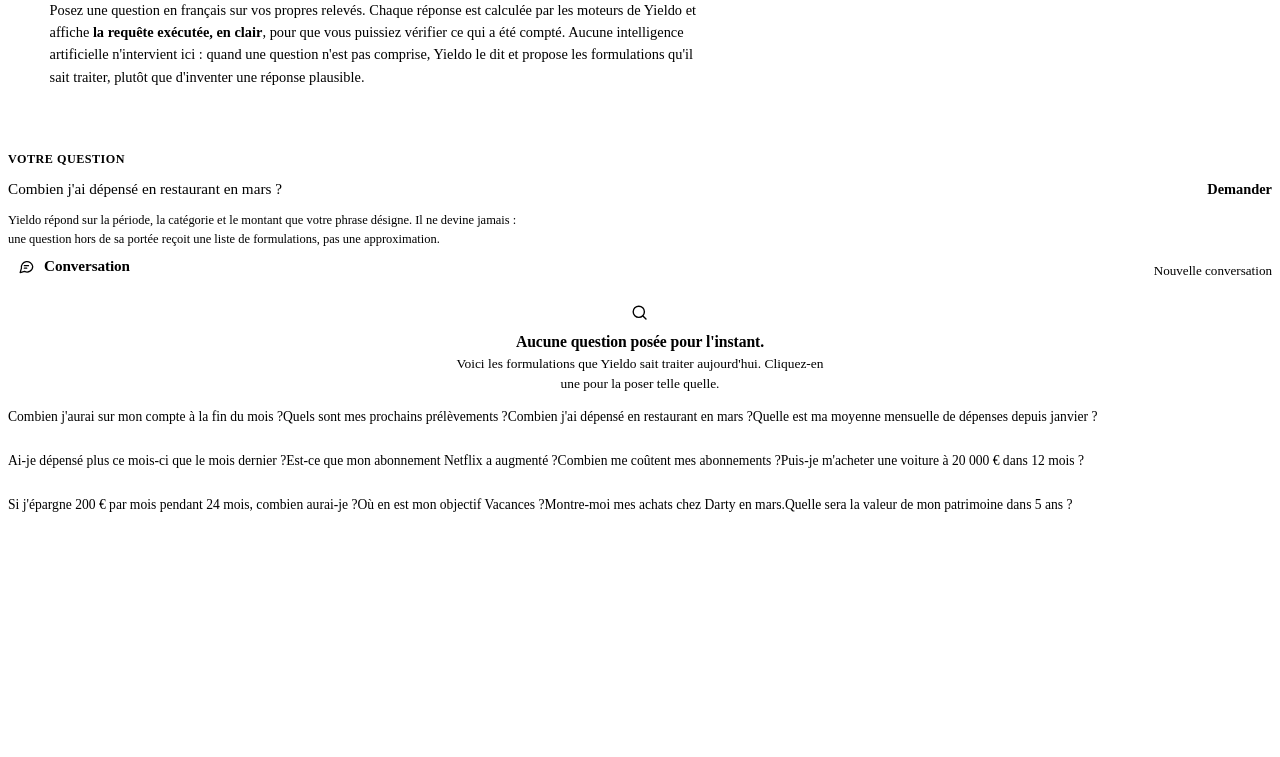
it: asking › sends the question and shows the answer that comes back
Check: the element with test id "yd-assistant-empty" is shown, box [8,293,1272,526]
In the field labelled "Votre question": coordinates (608, 189) [8,167,1207,211], type "Combien j'ai dépensé depuis novembre 2025 ?"
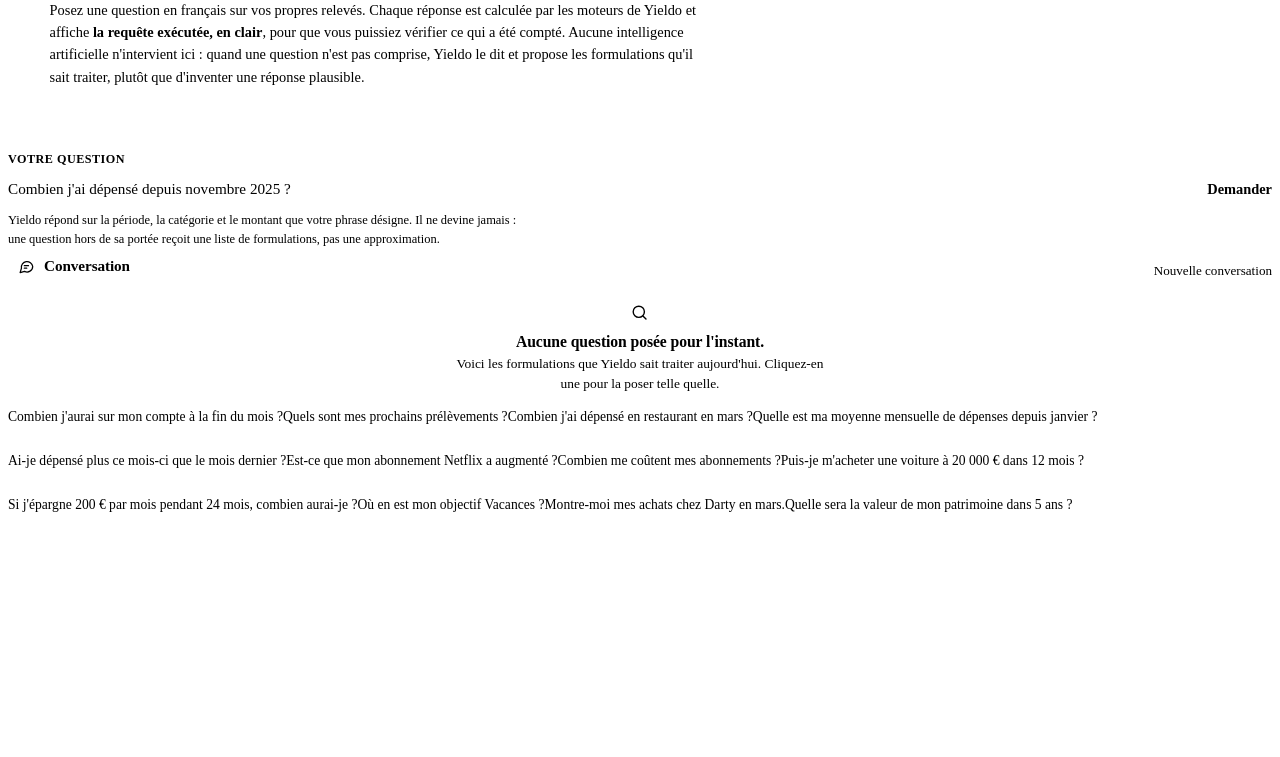
Click the button "Demander": coordinates (1240, 189) [1207,167,1272,211]
(page scrolled)
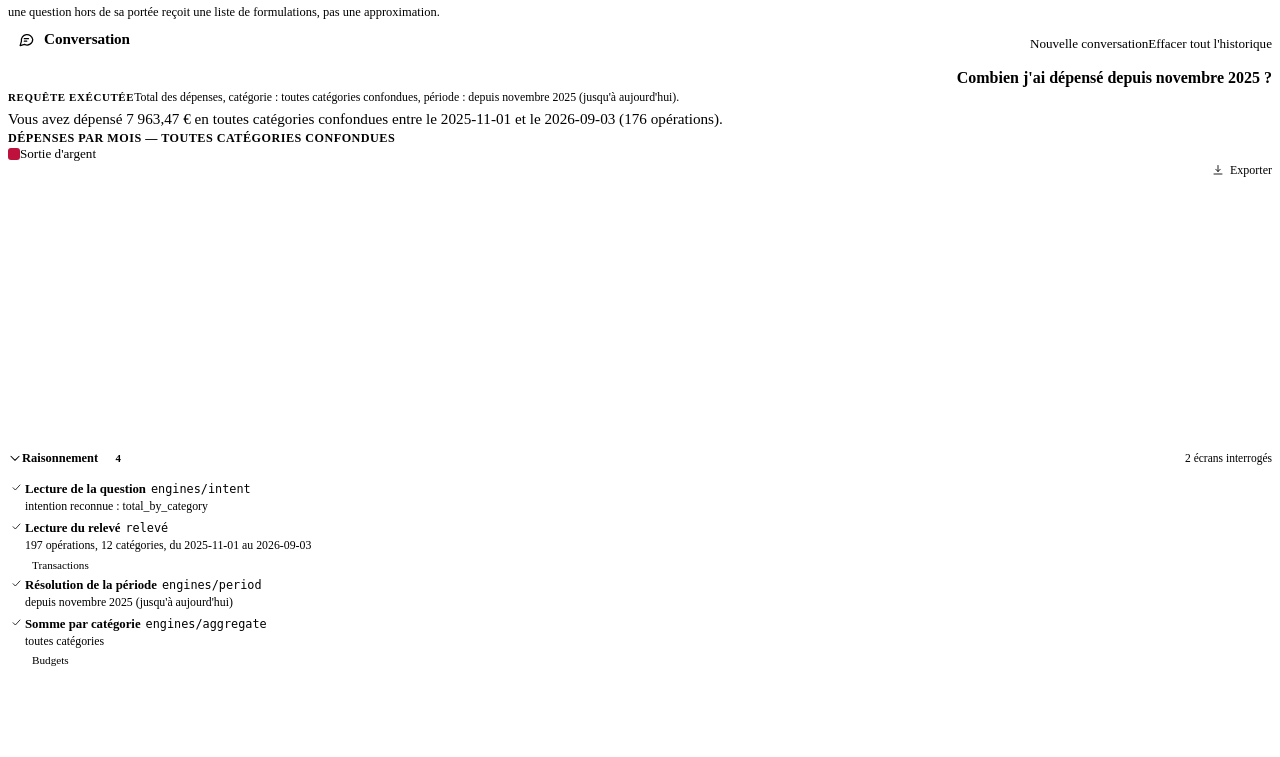
Check: the list item with test id "yd-exchange-901" shows "7 963,47 €", box [8,110,723,127]
